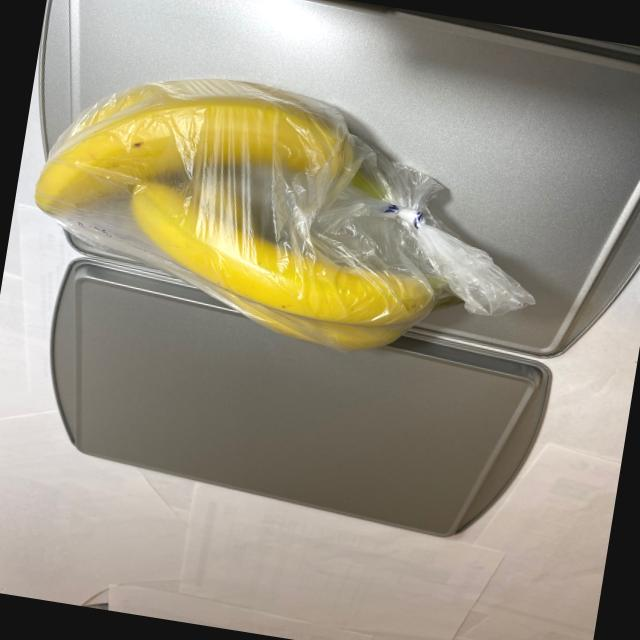banana: (24, 47, 505, 374)
